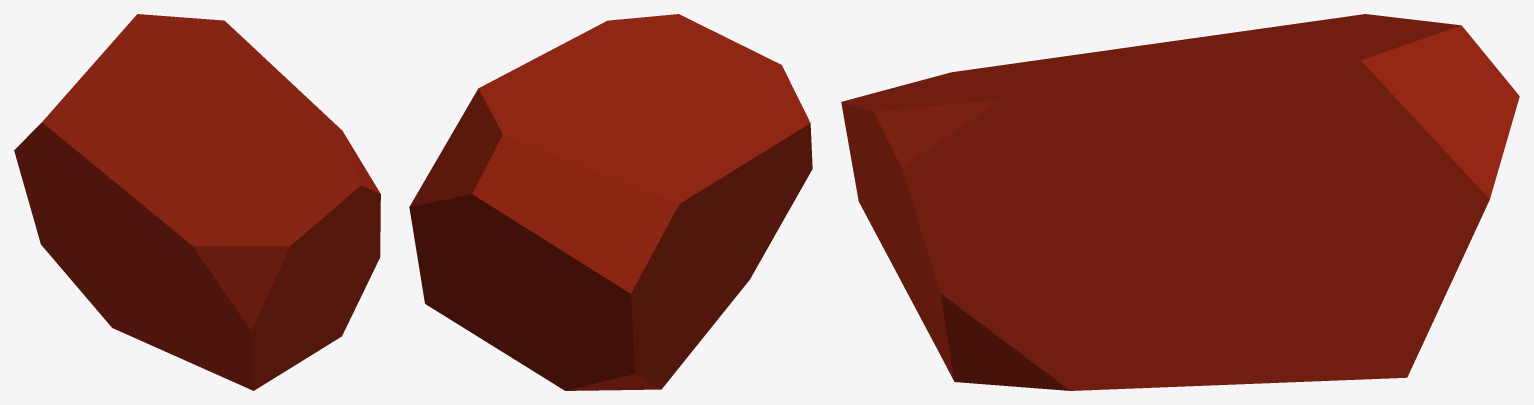
Rendered from SM_Simple_Rock_03.fbx.
3 views of the same model, side by side, from view 1: azimuth 30°, elevation 25°; view 2: azimuth 150°, elevation 25°; view 3: azimuth 270°, elevation 25° (orthographic). The views are drawn at different scales.
Visible parts, largest first — view 1: SM_Simple_Rock_03; view 2: SM_Simple_Rock_03; view 3: SM_Simple_Rock_03.
Boxes of the visible parts, left/top/right/bottom form: SM_Simple_Rock_03: left=14, top=14, right=380, bottom=390; SM_Simple_Rock_03: left=409, top=14, right=812, bottom=390; SM_Simple_Rock_03: left=841, top=14, right=1519, bottom=390.
Bounding box in the file's own units: 17.99 × 20.42 × 31.96.
